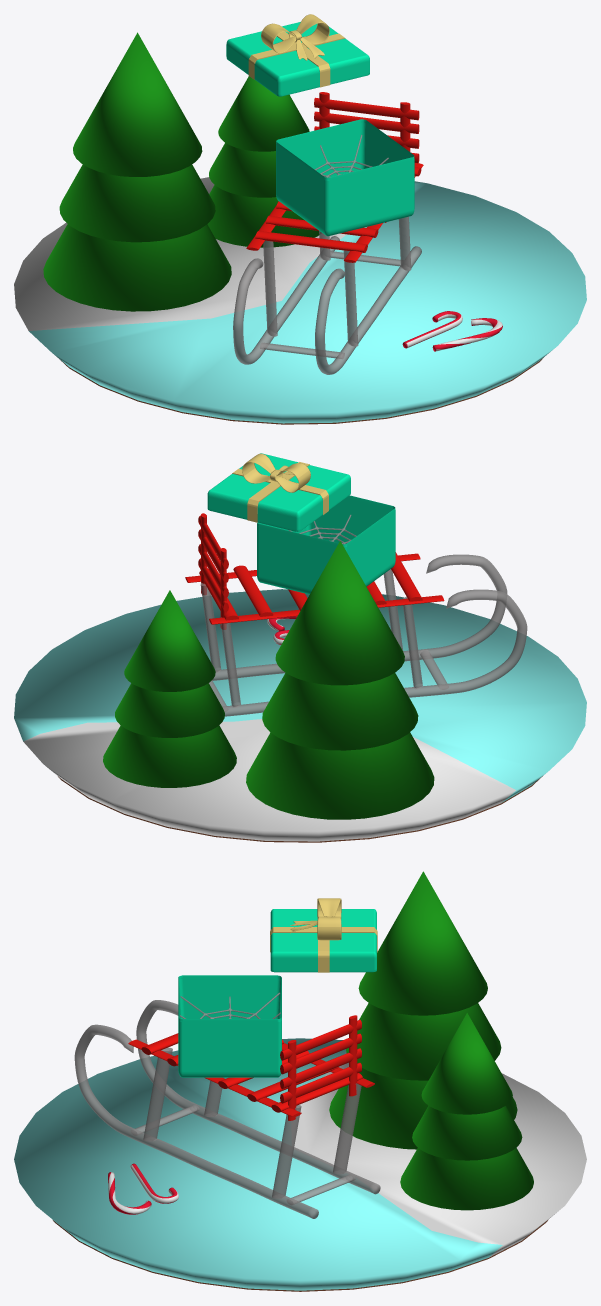
The model's file is XRmasNoSmaller.glb.
3 views of the same model, one above another, from view 1: azimuth 30°, elevation 25°; view 2: azimuth 150°, elevation 25°; view 3: azimuth 270°, elevation 25° (orthographic).
Parts seen in each view (by area): view 1: Circle002, box2, Cone002, Cone, Circle002_1, Cone001, boxTop, Cone006, Cone005, Cone004, BézierCurve001, BézierCurve (+12 smaller); view 2: Circle002, Circle002_1, Cone002, Cone, Cone001, box2, Cone005, Cone006, boxTop, Cone004, BézierCurve, BézierCurve001 (+10 smaller); view 3: Circle002, Circle002_1, Cone, box2, Cone001, Cone005, Cone006, boxTop, Cone002, Cone004, BézierCurve001, BézierCurve (+13 smaller).
Boxes of the visible parts, <box> form: Circle002: <box>29,181,586,423</box>; box2: <box>276,119,414,236</box>; Cone002: <box>43,224,231,311</box>; Cone: <box>73,32,202,176</box>; Circle002_1: <box>14,177,346,330</box>; Cone001: <box>59,164,215,242</box>; boxTop: <box>226,22,369,96</box>; Cone006: <box>218,76,309,151</box>; Cone005: <box>207,185,319,247</box>; Cone004: <box>209,142,276,197</box>; BézierCurve001: <box>315,246,421,374</box>; BézierCurve: <box>233,236,339,364</box>; Circle002: <box>14,589,586,802</box>; Circle002_1: <box>23,719,515,841</box>; Cone002: <box>246,732,434,819</box>; Cone: <box>275,541,404,685</box>; Cone001: <box>262,673,418,750</box>; box2: <box>257,495,395,594</box>; Cone005: <box>103,725,236,787</box>; Cone006: <box>124,590,215,691</box>; boxTop: <box>207,453,350,531</box>; Cone004: <box>115,683,224,737</box>; BézierCurve: <box>222,589,527,716</box>; BézierCurve001: <box>212,554,507,680</box>; Circle002: <box>14,1038,502,1290</box>; Circle002_1: <box>294,1052,586,1257</box>; Cone: <box>358,871,487,1015</box>; box2: <box>178,975,281,1077</box>; Cone001: <box>345,1003,501,1080</box>; Cone005: <box>400,1147,533,1210</box>; Cone006: <box>421,1013,512,1114</box>; boxTop: <box>270,909,376,972</box>; Cone002: <box>329,1068,517,1149</box>; Cone004: <box>412,1105,522,1160</box>; BézierCurve001: <box>74,1024,318,1218</box>; BézierCurve: <box>136,1000,380,1194</box>.
Bounding box in the file's own units: 3.96 × 2.54 × 3.96.
